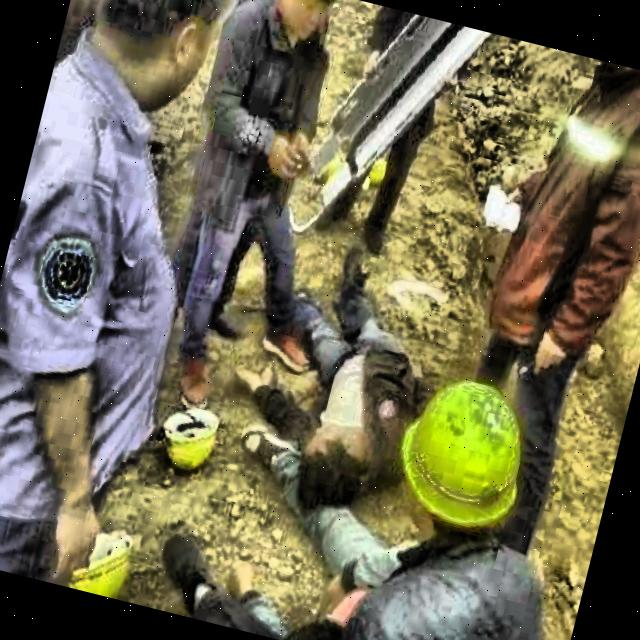helmet: (347, 338, 556, 586)
